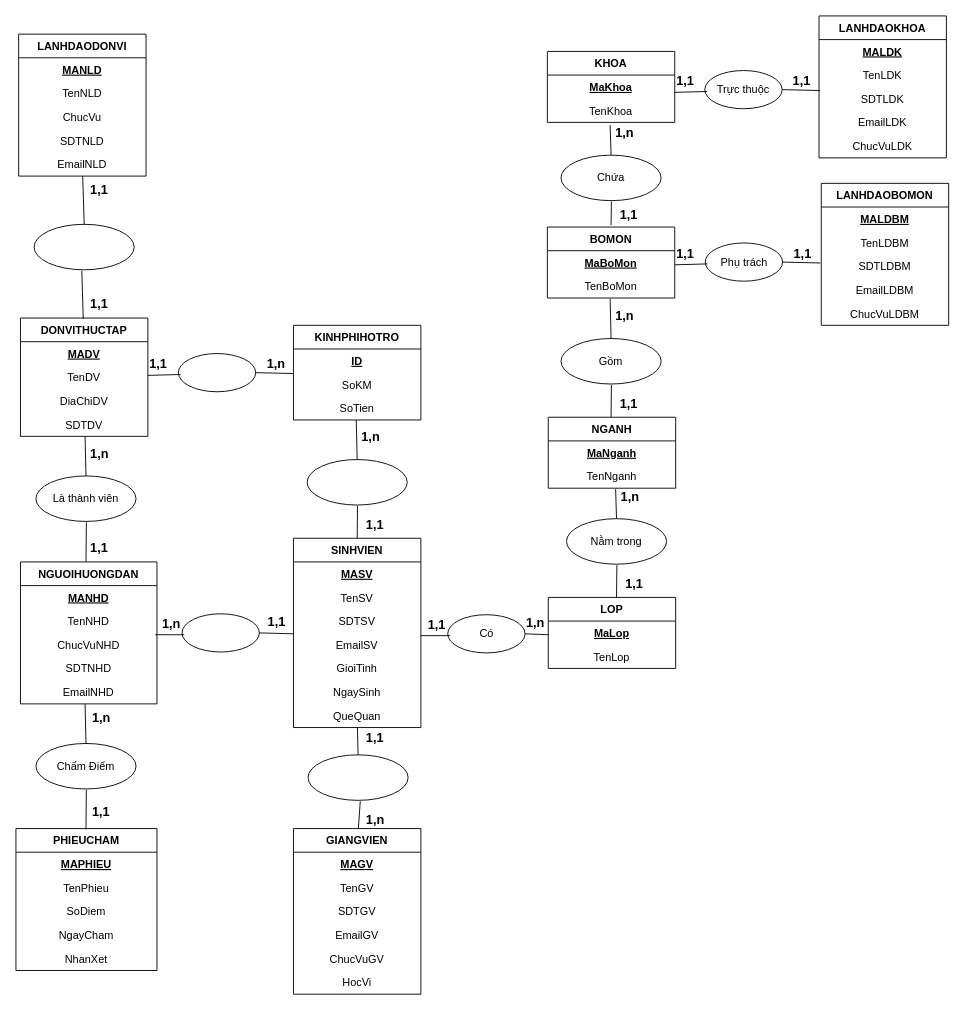
Some shapes in this 965 by 1013 pixel diagram are drawn without their labels. Here are the shapes that lost their labels. From the top down, the centre of each, then its label:
At point (83, 246): "Chịu trách nhiệm".
At point (216, 372): "Xác định".
At point (356, 482): "Cấp".
At point (220, 632): "Hướng dẫn".
At point (357, 777): "Nhận hướng dẫn".
